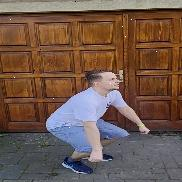high_jumps: (40, 71, 157, 174)
